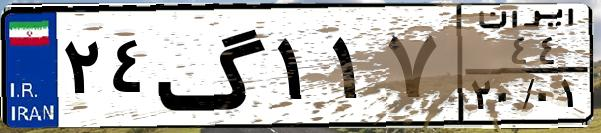0: (495, 70, 520, 125), (535, 70, 560, 125)
1: (270, 28, 330, 110), (330, 28, 385, 110), (560, 70, 590, 125)
2: (57, 26, 110, 100), (470, 70, 495, 125)
4: (110, 28, 156, 98), (537, 27, 568, 80), (508, 27, 537, 80)
7: (385, 28, 445, 110)
گ: (156, 12, 270, 120)
